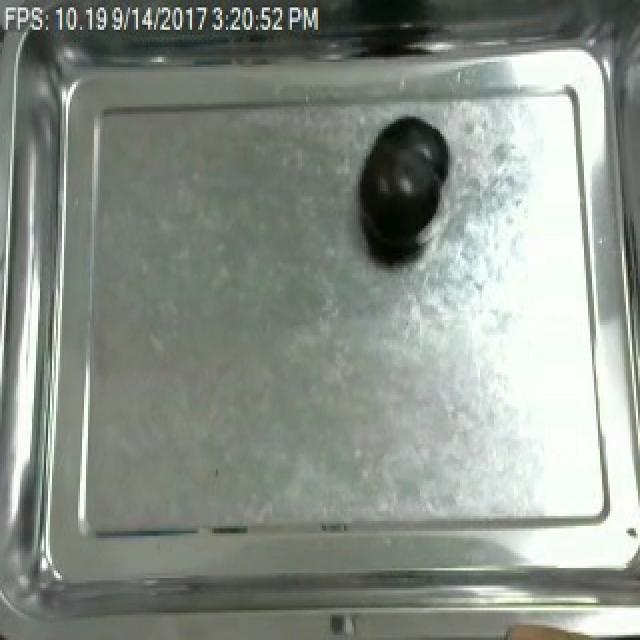Fruit: (350, 107, 456, 263)
